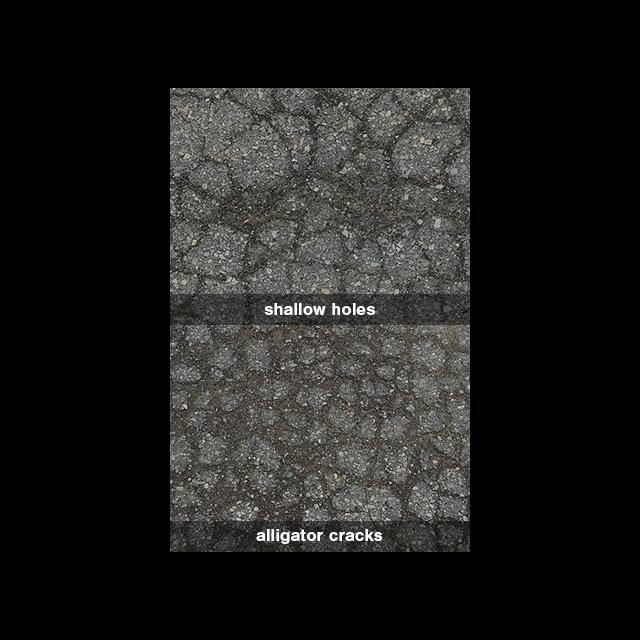retak_kulit_buaya: (170, 88, 470, 294), (170, 320, 470, 513)
